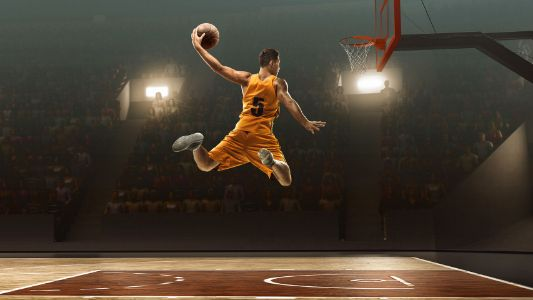baloncesto: (194, 23, 219, 49)
